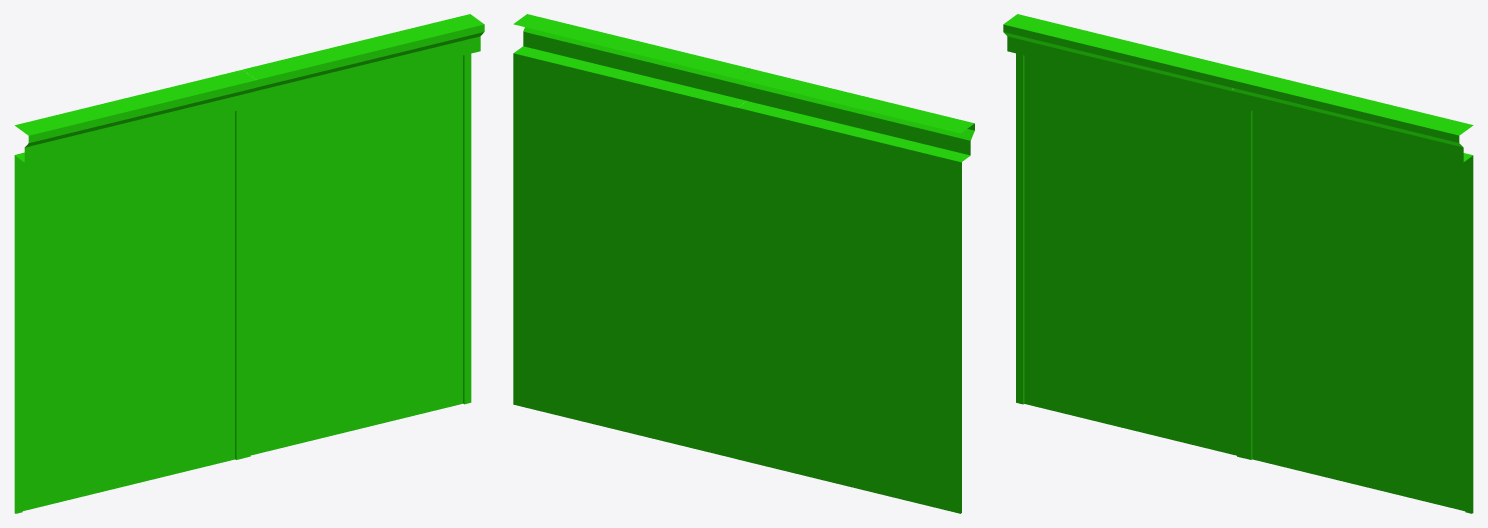
The model's file is SM_JShouse_wall.fbx.
3 renders of one model, left to right at view 1: azimuth 30°, elevation 25°; view 2: azimuth 150°, elevation 25°; view 3: azimuth 330°, elevation 25°, orthographic.
Parts seen in each view (by area): view 1: JShouse.001, JShouse.002; view 2: JShouse.001, JShouse.002; view 3: JShouse.002, JShouse.001.
Part boxes in pixels (left/top/right/bottom): JShouse.001: left=14, top=70, right=256, bottom=513; JShouse.002: left=243, top=14, right=484, bottom=458; JShouse.001: left=737, top=69, right=974, bottom=513; JShouse.002: left=513, top=14, right=750, bottom=458; JShouse.002: left=1231, top=69, right=1473, bottom=513; JShouse.001: left=1003, top=14, right=1244, bottom=458.
Size of the model in its own units: 640 by 520 by 34.76.
